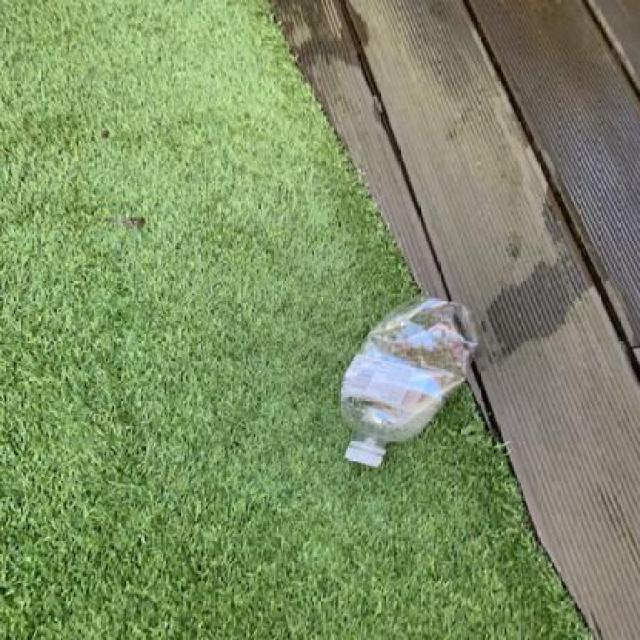trash: (334, 295, 488, 473)
